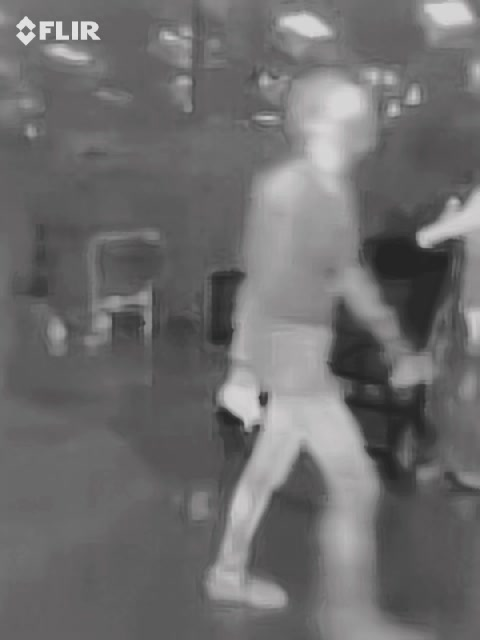head: (282, 65, 375, 168)
